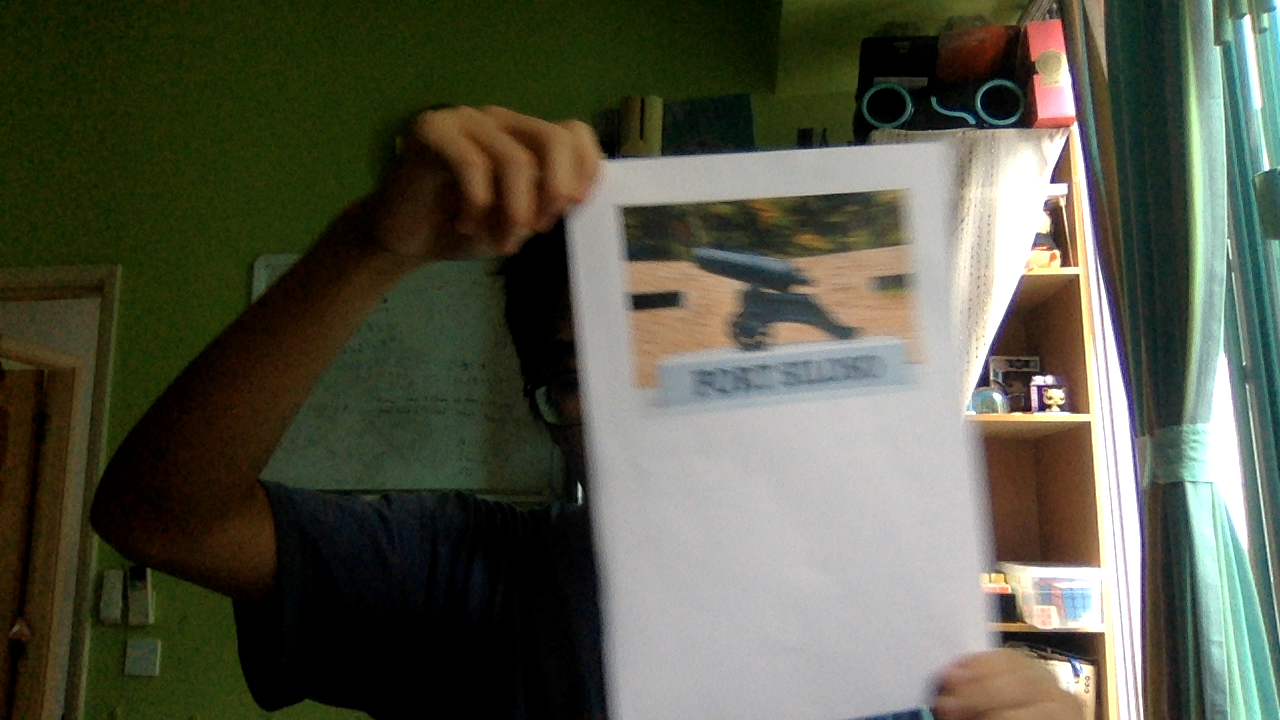siloso: (607, 168, 930, 421)
